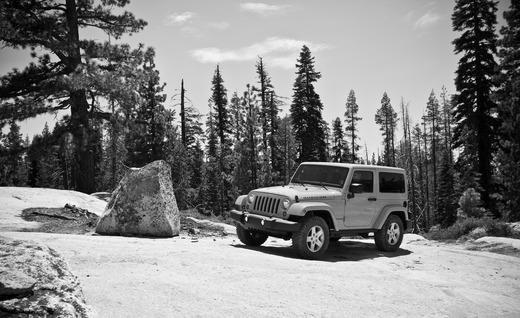car: (220, 153, 415, 263)
